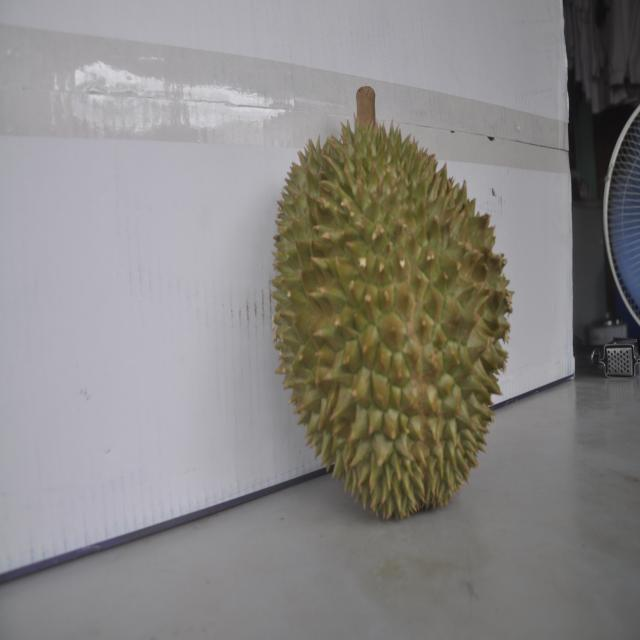mature: (270, 102, 507, 517)
